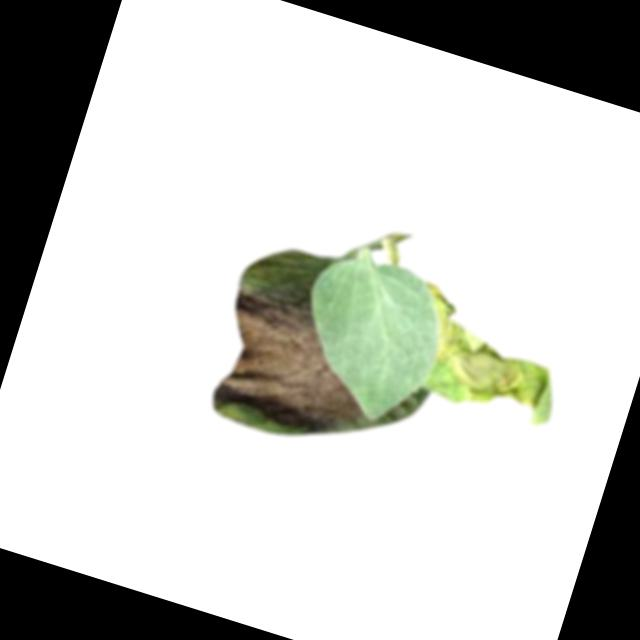Late_blight: (199, 279, 388, 447), (395, 279, 578, 429)
healthy: (278, 236, 458, 431)
